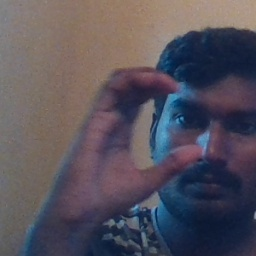C: (75, 59, 208, 195)
